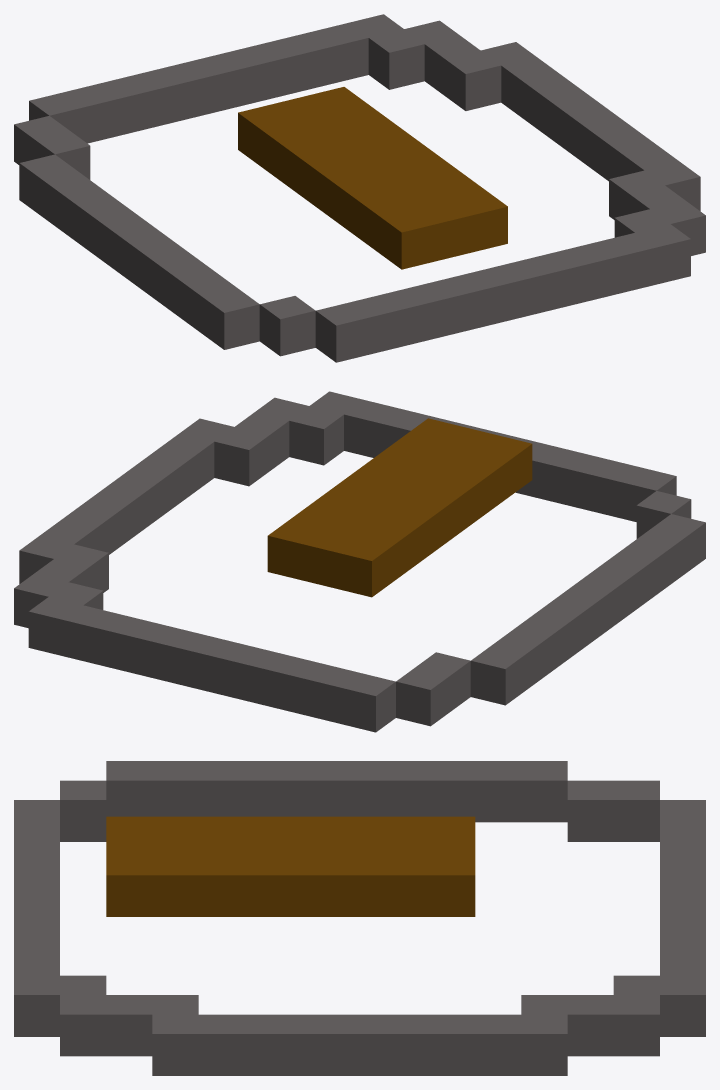
Rendered from fireplace.gltf.
3 renders of one model, top to bottom at view 1: azimuth 30°, elevation 25°; view 2: azimuth 150°, elevation 25°; view 3: azimuth 270°, elevation 25°, orthographic. The views are drawn at different scales.
Parts seen in each view (by area): view 1: Layer.1, Layer.2; view 2: Layer.1, Layer.2; view 3: Layer.1, Layer.2.
Boxes of the visible parts, x1,y1,x2,y2 form: Layer.1: (14,14,705,362); Layer.2: (238,87,507,269); Layer.1: (14,391,705,732); Layer.2: (267,418,532,597); Layer.1: (14,761,705,1075); Layer.2: (106,816,475,916).
Bounding box in the file's own units: 14 × 2 × 15.
Materials: 1 (1 with a texture image).
